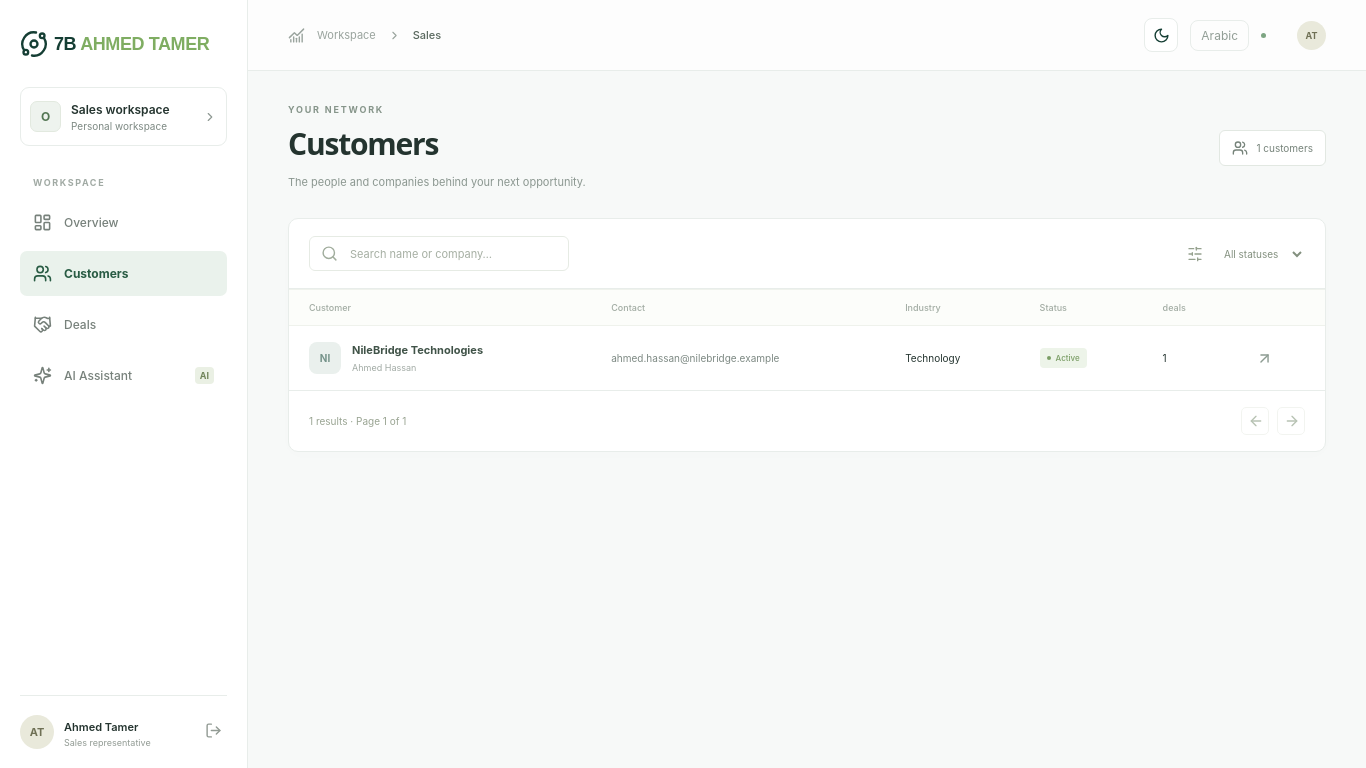
Test: workspace integration › displays customers and follows the customer/deal relationship
Click the link "NileBridge Technologies": (418, 350) [352, 343, 483, 357]
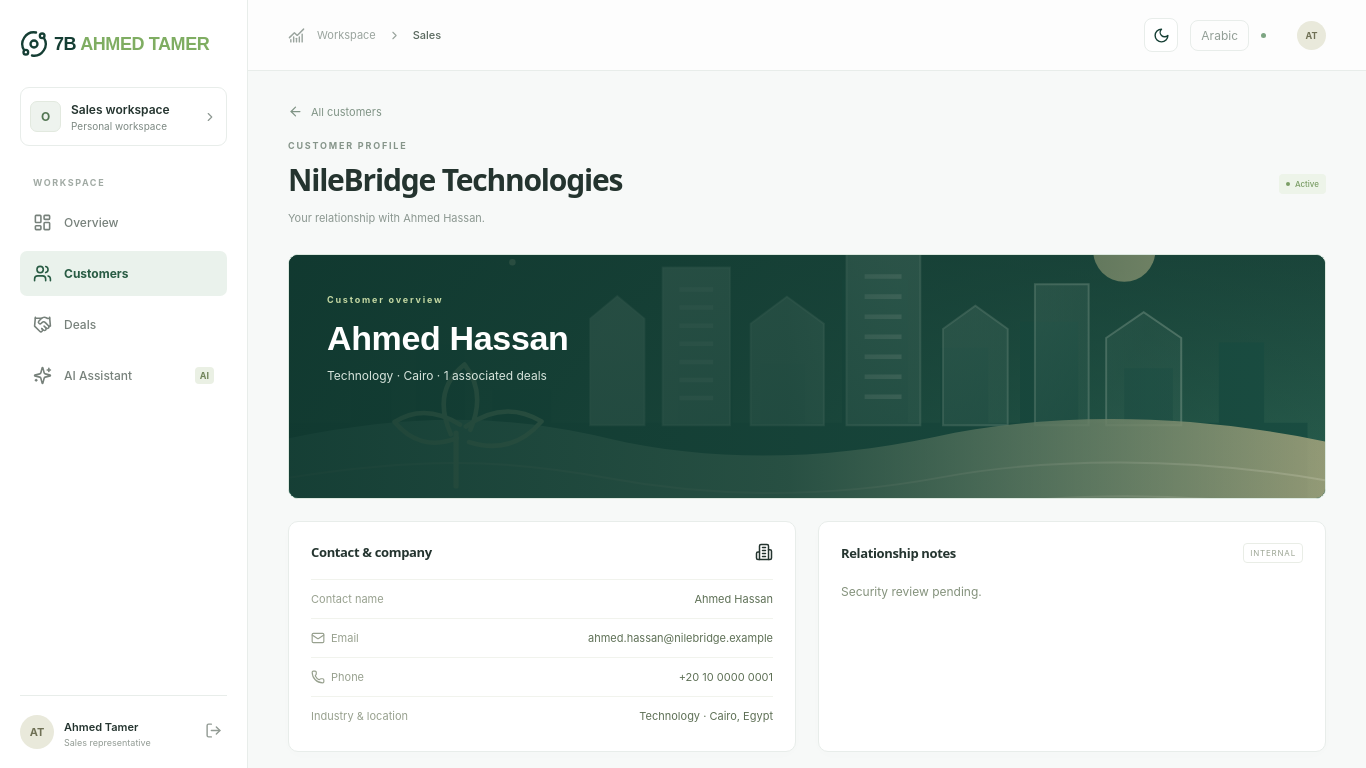
Expected: the heading "NileBridge Technologies" is shown, [288, 160, 622, 200]
Expected: the text "Security review pending." is shown, [841, 584, 982, 599]
